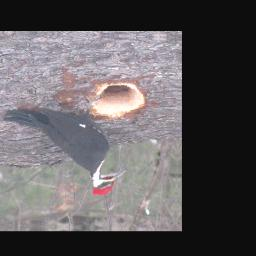Woodpecker: (0, 87, 129, 199)
